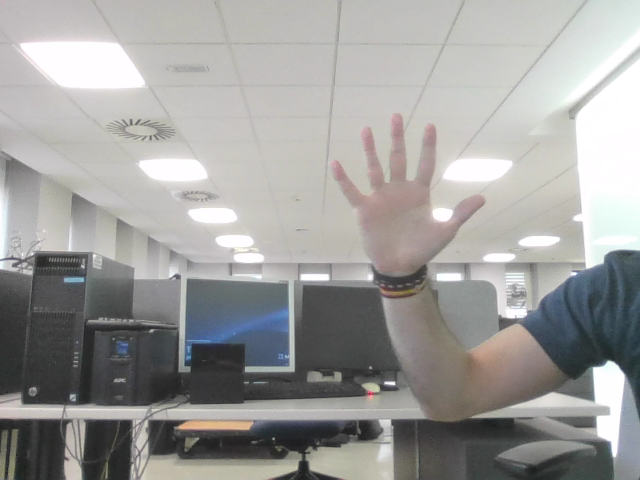Mano Abierta: (341, 126, 471, 246)
